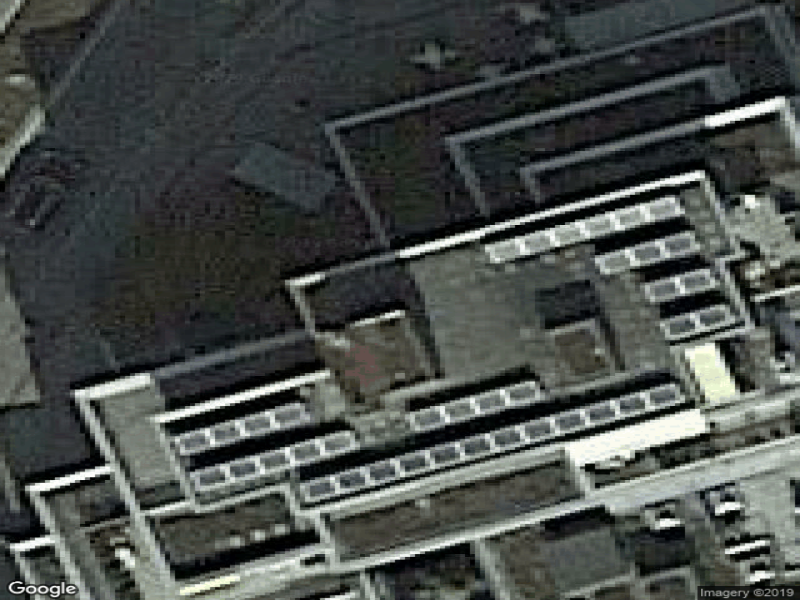pv: (303, 384, 685, 500), (491, 195, 682, 261), (191, 432, 358, 489), (411, 381, 545, 434), (174, 404, 309, 455), (598, 232, 699, 273), (664, 306, 733, 341), (648, 271, 714, 305)
